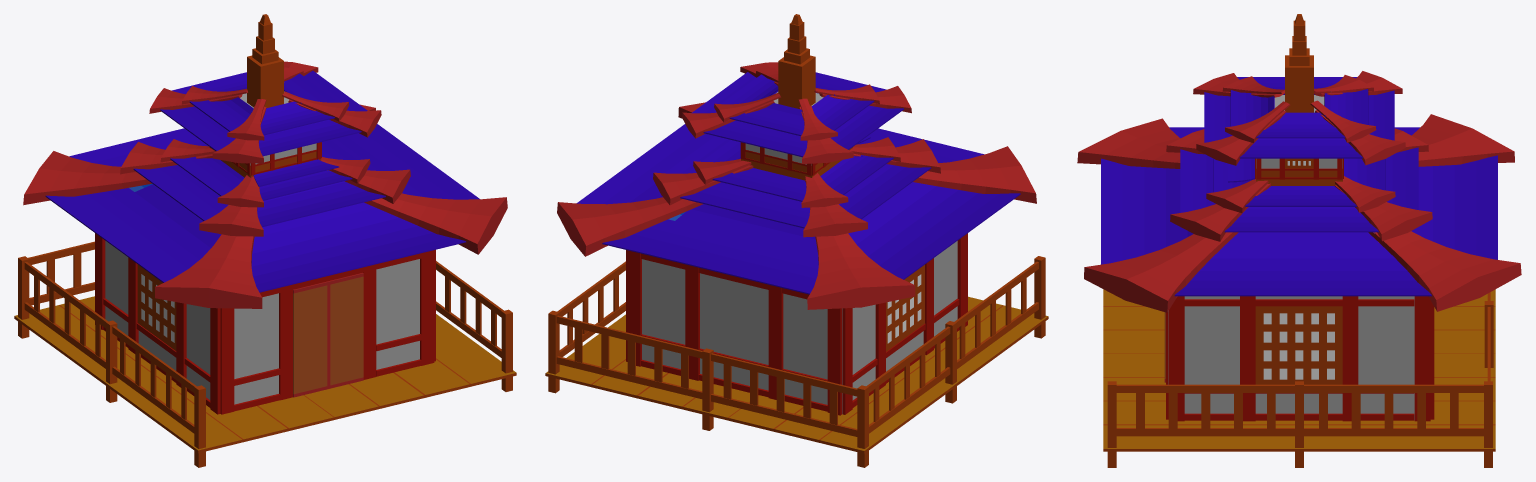
File: TemploP.fbx
The picture shows the model from 3 angles, left to right: view 1: azimuth 30°, elevation 25°; view 2: azimuth 150°, elevation 25°; view 3: azimuth 270°, elevation 25°; orthographic projection. The views are drawn at different scales.
Visible parts, largest first — view 1: Telhado, HouseP, Varanda; view 2: Telhado, HouseP, Varanda; view 3: Telhado, HouseP, Varanda.
Part boxes in pixels (box(x1,y1,x2,y2)): Telhado: box(23, 61, 507, 308); HouseP: box(95, 14, 435, 414); Varanda: box(14, 241, 516, 467); Telhado: box(557, 62, 1036, 309); HouseP: box(626, 14, 967, 415); Varanda: box(545, 256, 1048, 467); Telhado: box(1077, 71, 1521, 312); HouseP: box(1164, 14, 1434, 421); Varanda: box(1103, 289, 1495, 467).
Size of the model in its own units: 6.79 by 6.26 by 6.79.
